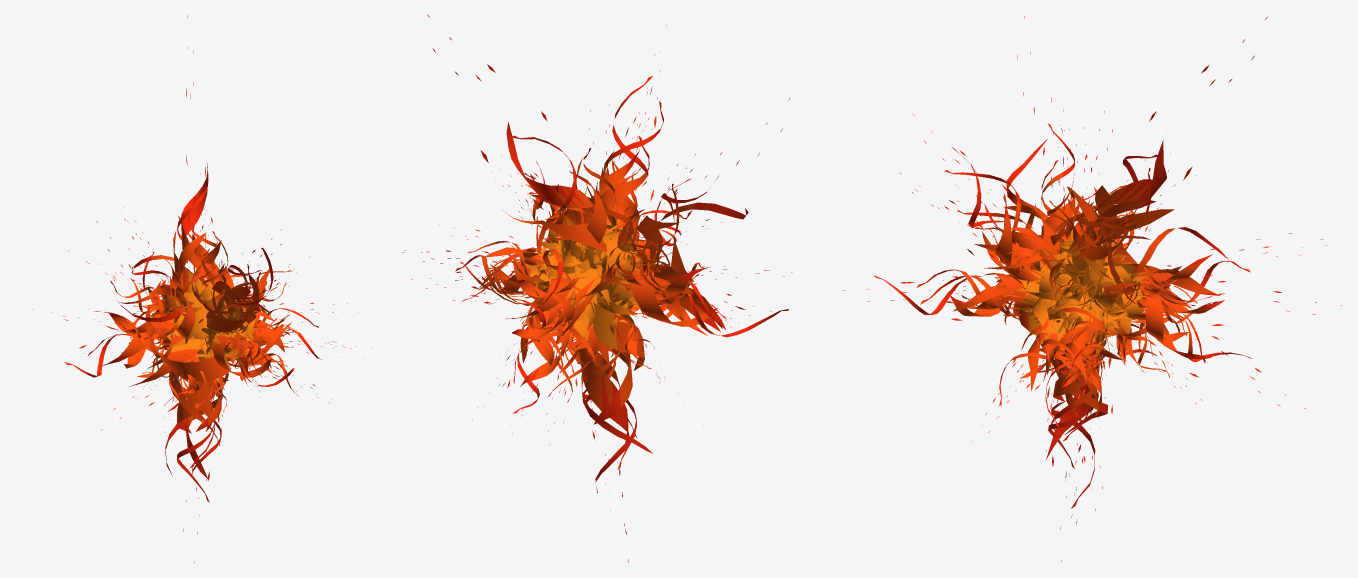
The model's file is fireball_05.obj.
3 renders of one model, left to right at view 1: azimuth 30°, elevation 25°; view 2: azimuth 150°, elevation 25°; view 3: azimuth 270°, elevation 25°, orthographic. The views are drawn at different scales.
Parts seen in each view (by area): view 1: Fireball; view 2: Fireball; view 3: Fireball.
Boxes of the visible parts, x1,y1,x2,y2 form: Fireball: (31,15,371,562); Fireball: (402,14,792,562); Fireball: (843,16,1342,561).
Bounding box in the file's own units: 1.72 × 2.3 × 1.76.
